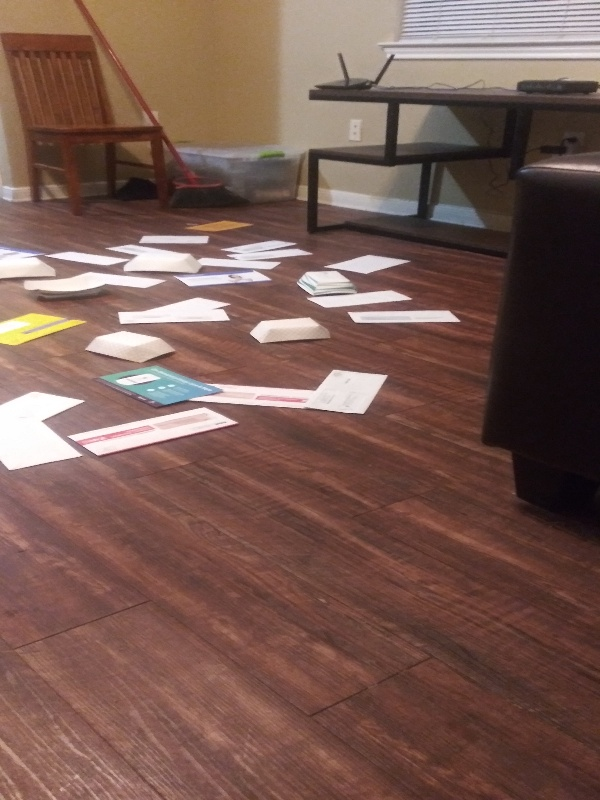plate: (79, 329, 181, 366), (244, 314, 336, 349), (17, 270, 113, 303), (118, 249, 207, 279), (290, 267, 362, 298), (1, 255, 62, 280)
